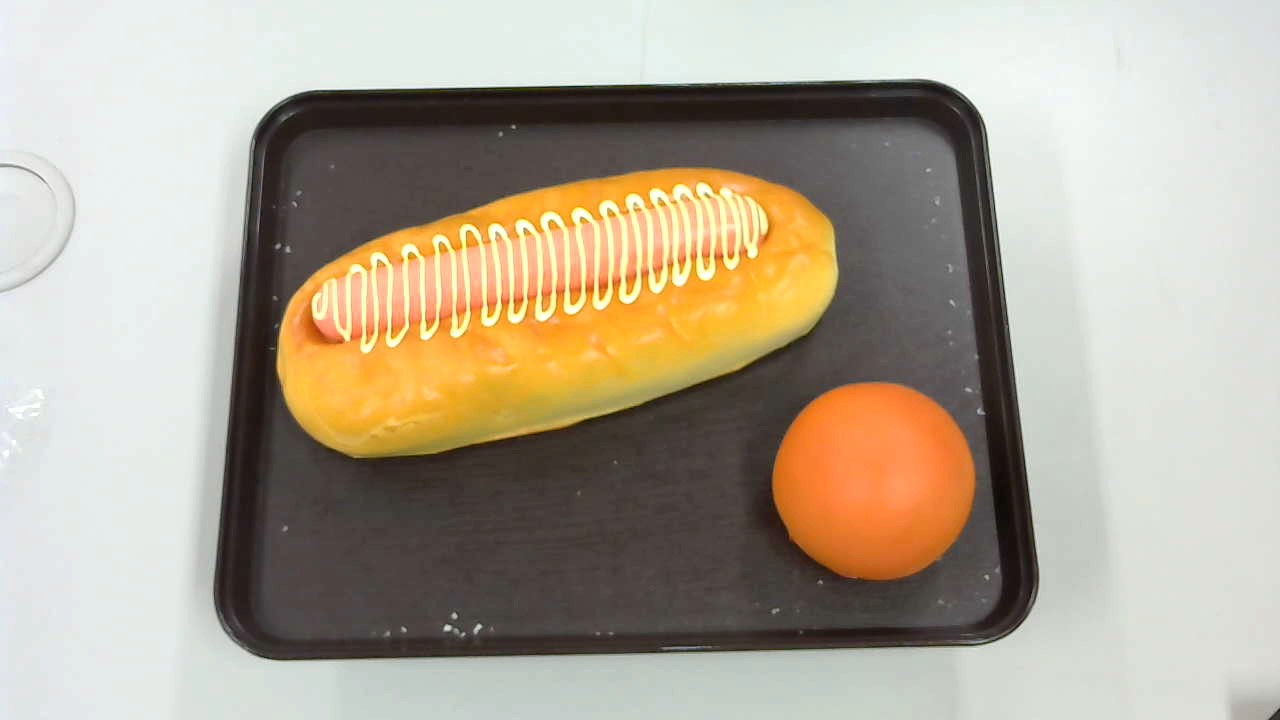bun: (773, 382, 975, 580)
hot dog: (276, 168, 838, 458)
